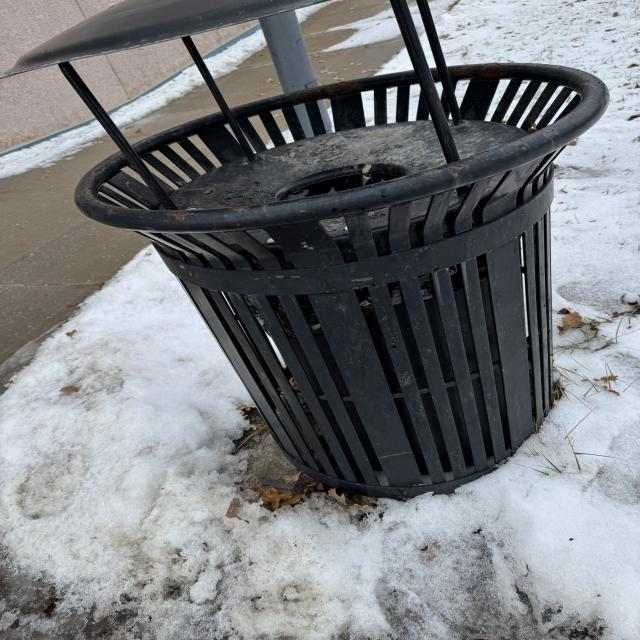Dustbin: (3, 0, 607, 503)
